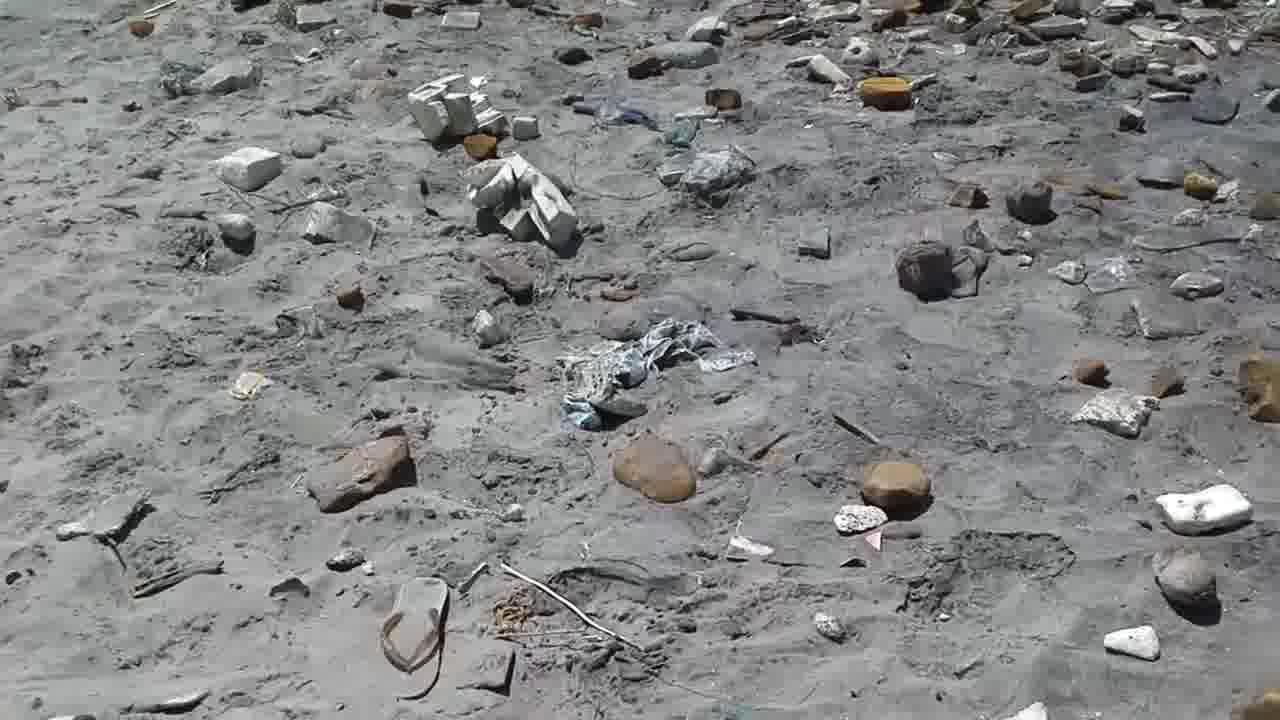large collection of objects: (866, 0, 1279, 119), (893, 217, 1000, 305), (300, 440, 420, 514), (613, 438, 695, 506), (662, 148, 752, 198), (622, 38, 716, 79), (1140, 150, 1182, 190)
obj: (557, 315, 762, 428), (456, 154, 582, 250), (408, 68, 540, 142), (375, 578, 449, 703), (1130, 188, 1257, 255), (49, 490, 160, 540), (1072, 382, 1158, 439), (1163, 486, 1249, 533), (212, 144, 288, 194), (302, 202, 378, 250), (862, 456, 931, 508), (1232, 346, 1279, 419), (170, 54, 262, 91), (1154, 556, 1217, 604), (852, 69, 910, 111), (782, 54, 854, 86), (1104, 627, 1162, 660), (828, 504, 895, 528), (292, 0, 343, 28), (686, 12, 730, 36), (463, 132, 497, 160), (220, 213, 253, 241), (437, 10, 483, 30)
